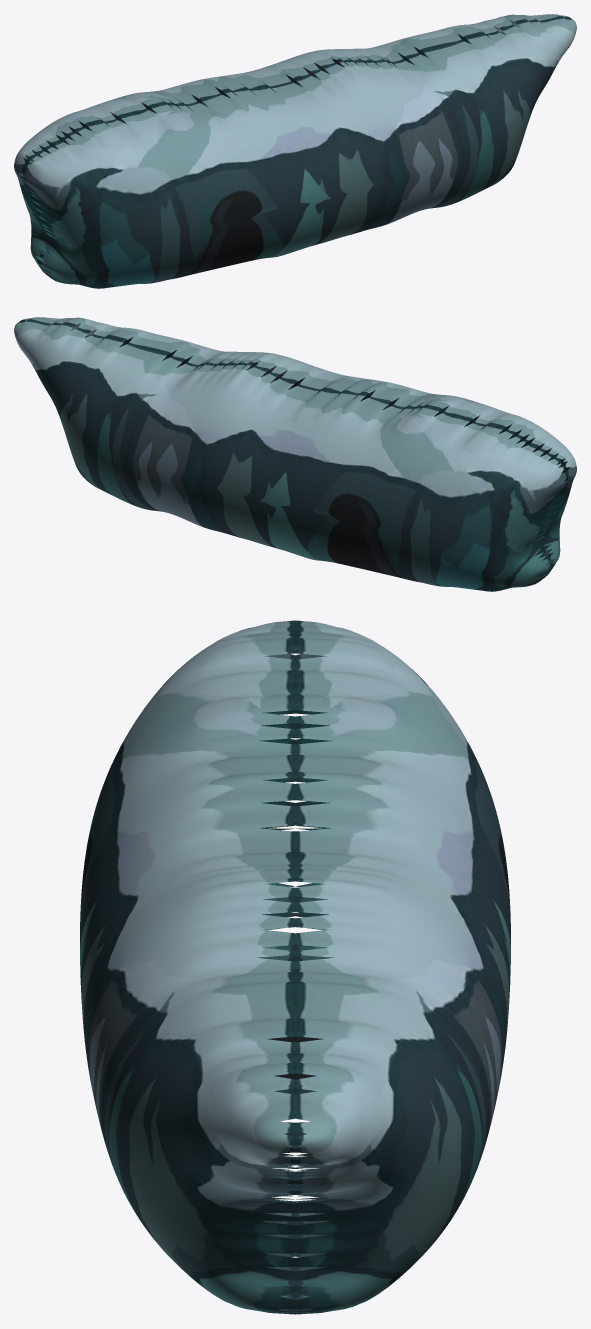
File: cavern_ledge.glb
3 views of the same model, one above another, from view 1: azimuth 30°, elevation 25°; view 2: azimuth 150°, elevation 25°; view 3: azimuth 270°, elevation 25° (orthographic). The views are drawn at different scales.
Visible parts, largest first — view 1: cavern_ledge; view 2: cavern_ledge; view 3: cavern_ledge.
Boxes of the visible parts, x1,y1,x2,y2 form: cavern_ledge: (14,14,576,288); cavern_ledge: (14,317,576,591); cavern_ledge: (80,620,510,1314).
Bounding box in the file's own units: 0.9876 × 0.2806 × 0.3338.
1 material, 1 textured.
